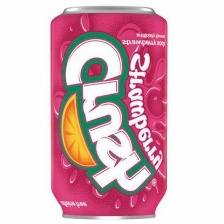can: (45, 5, 174, 219)
